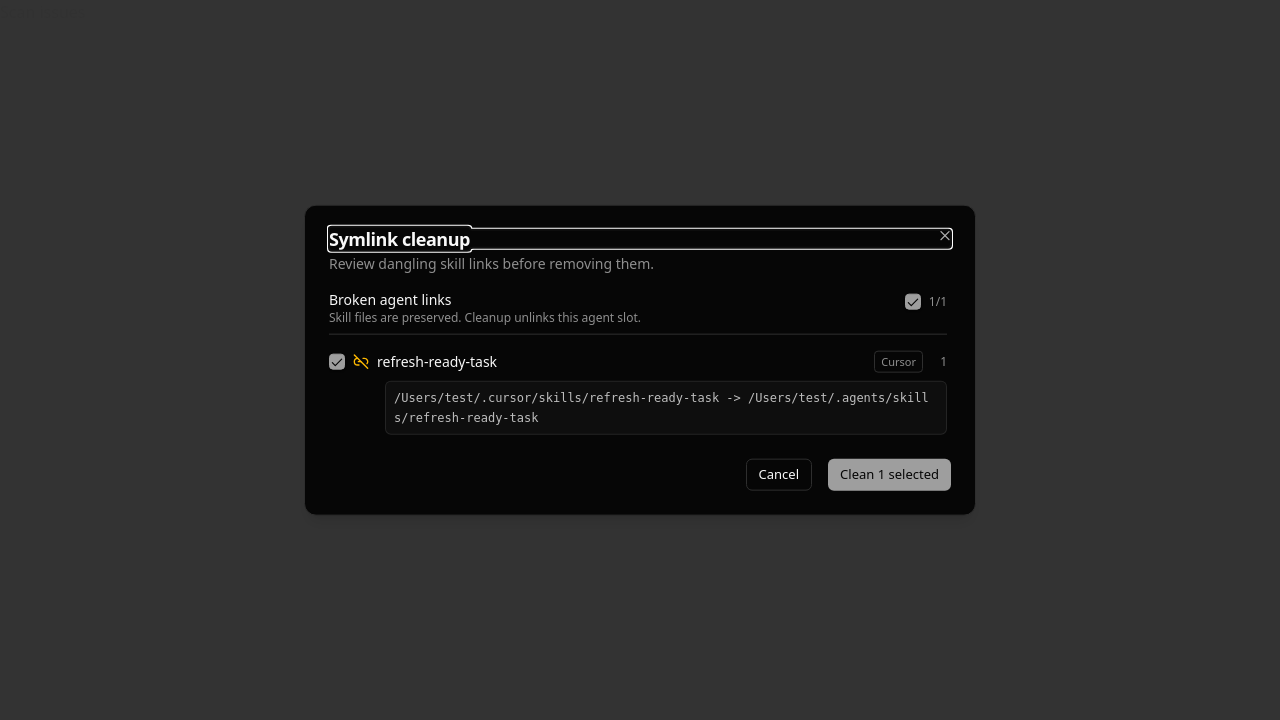
Test: SymlinkCleanupDialog › keeps dashboard refresh warnings when rescan finds more cleanup items
This screenshot has width=1280, height=720.
Click the button "Clean 1 selected". click: click(890, 474)
box: [828,458,951,490]
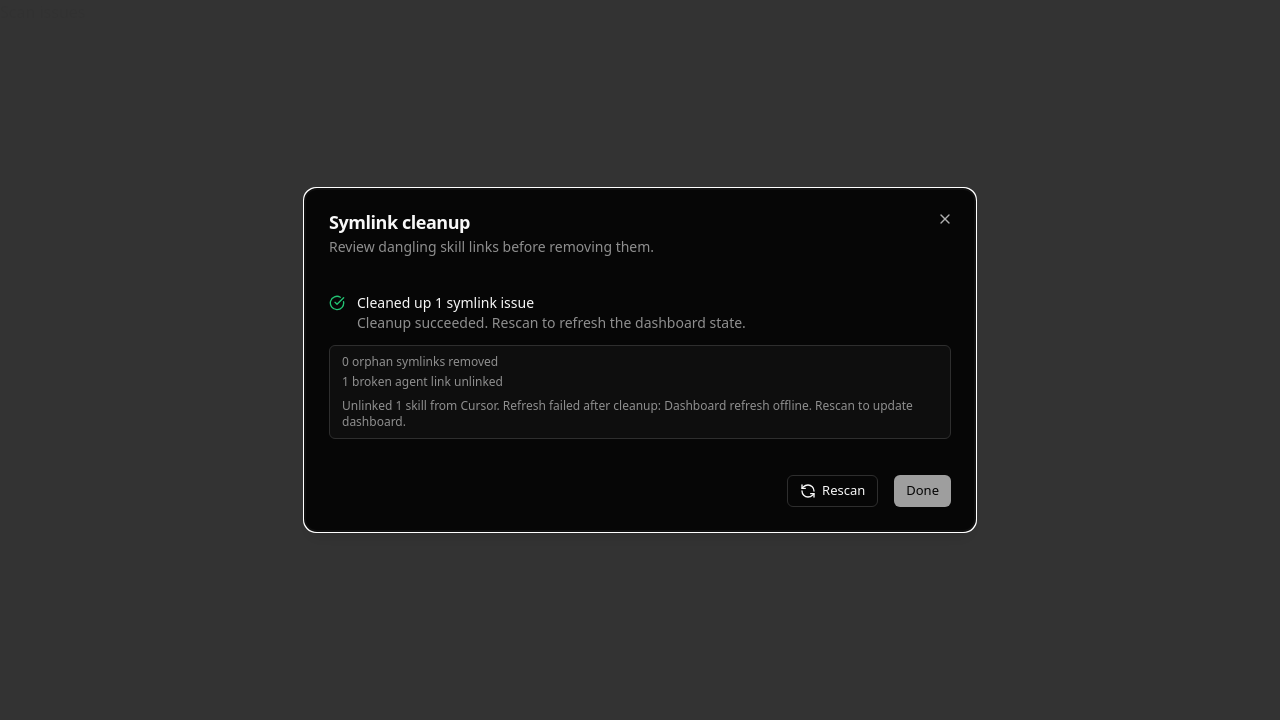
Expected: the button "Rescan" is shown
Click the button "Rescan". click: click(833, 491)
box: [787,475,878,507]
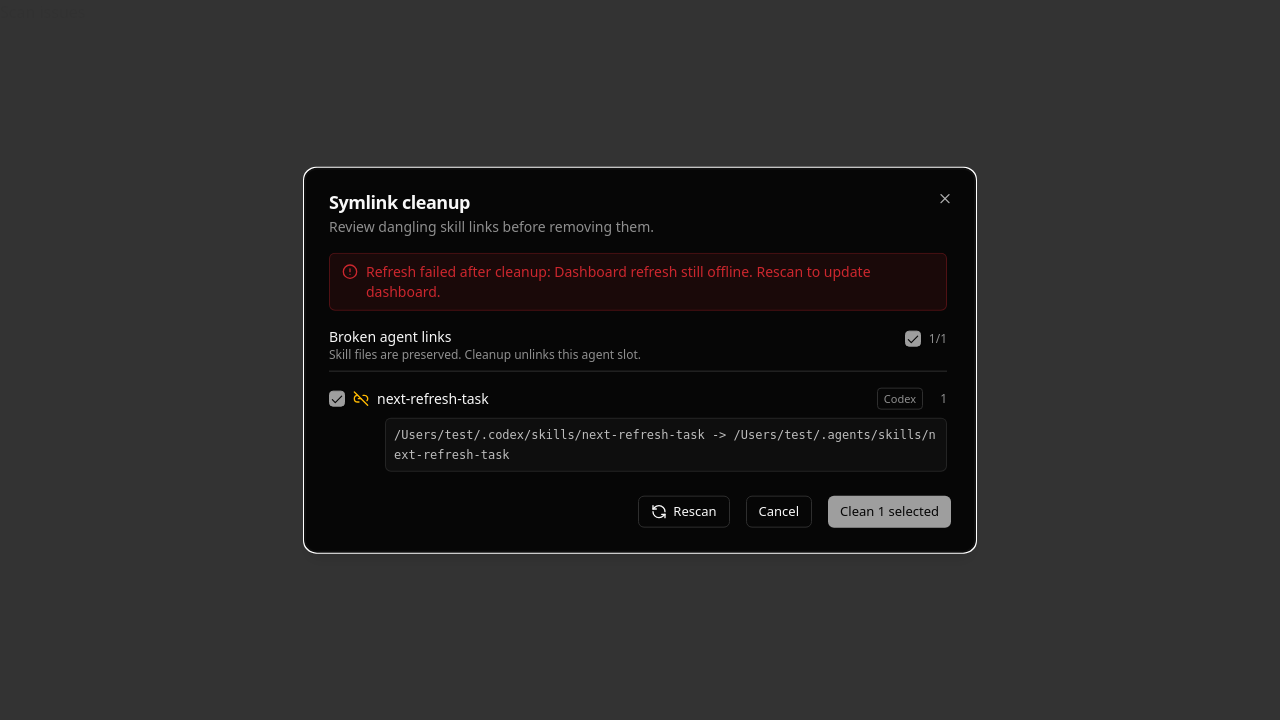
Expected: the text "next-refresh-task" is shown, [377,388,489,408]
Expected: the button "Clean 1 selected" is shown, [828,495,951,527]
Expected: the text "Dashboard refresh still offline" is shown, [366,262,870,301]
